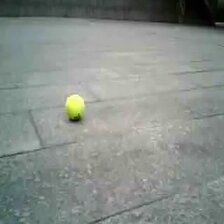tennis: (65, 95, 86, 119)
